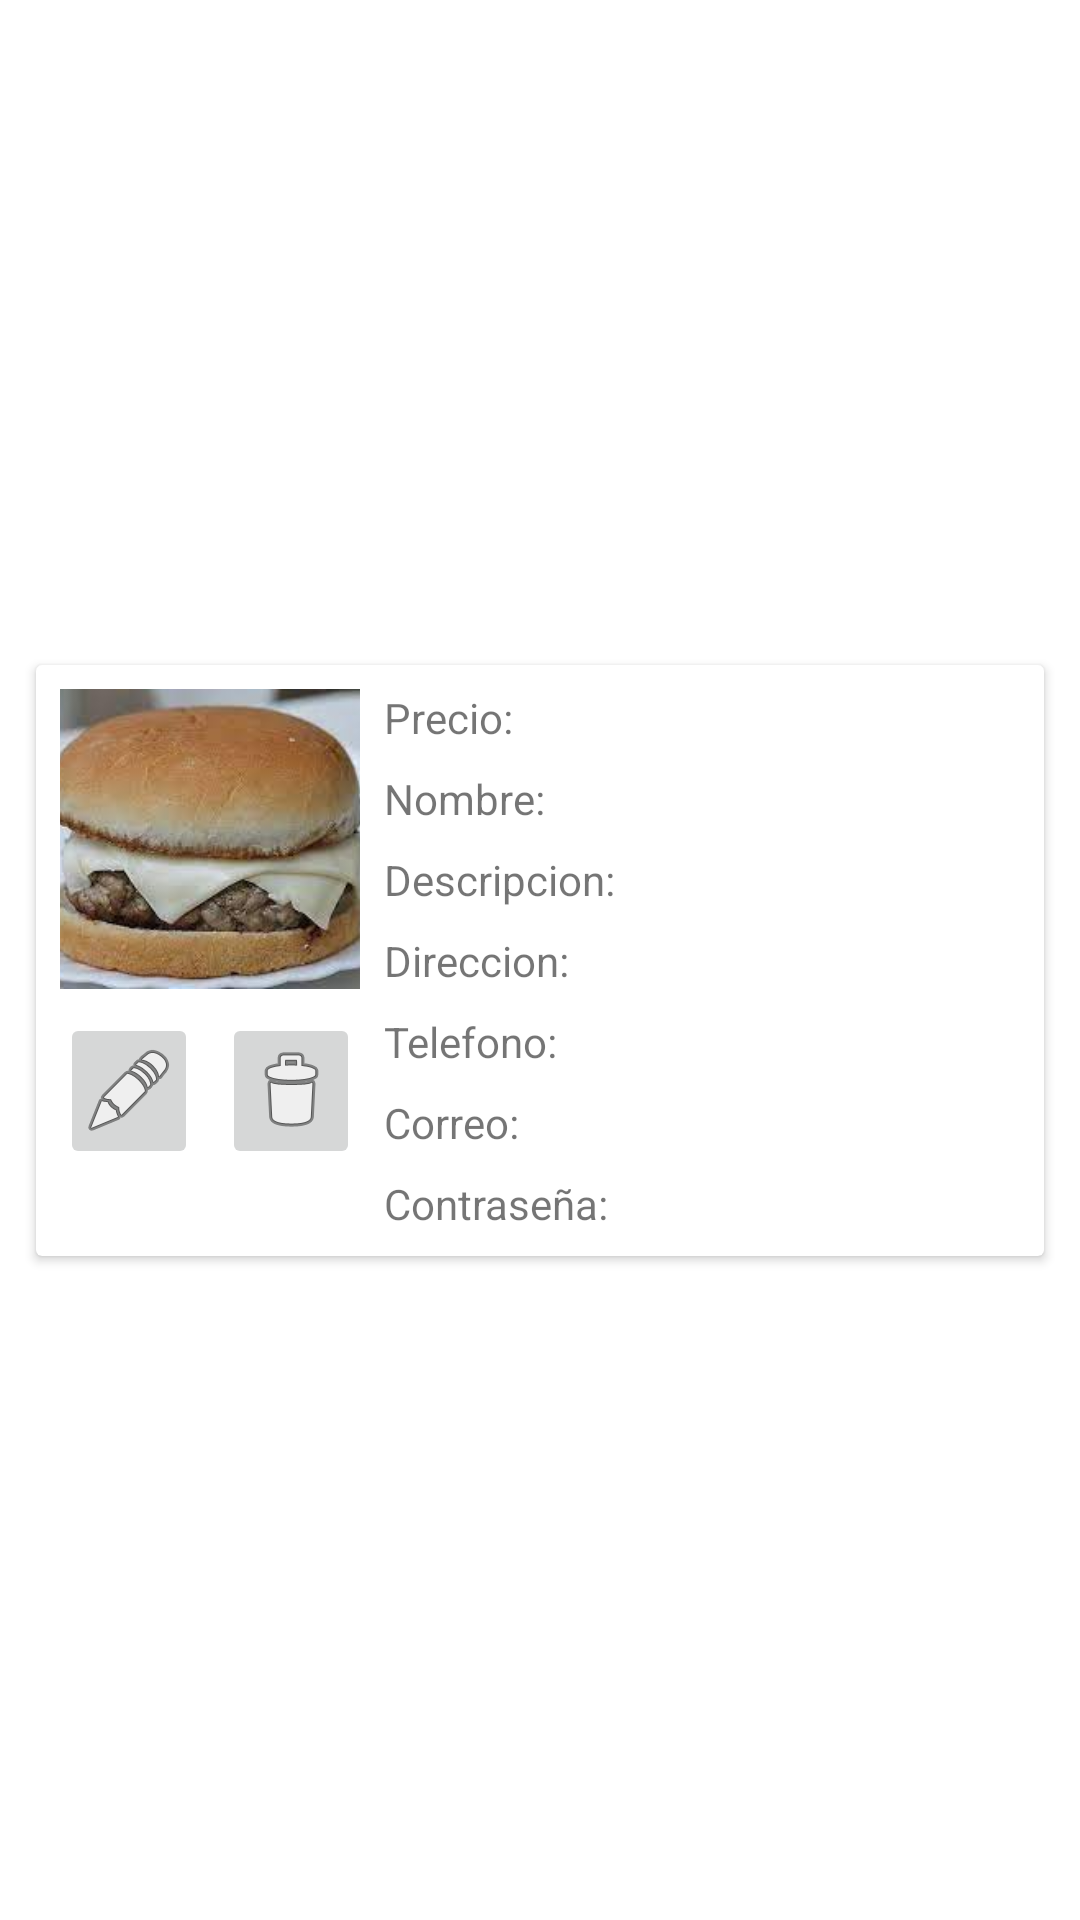

Point at icon controls on the screen. Image size 1080*1920, points as [x,y].
burger: [210,839]
delete: [291,1091]
edit: [129,1091]
